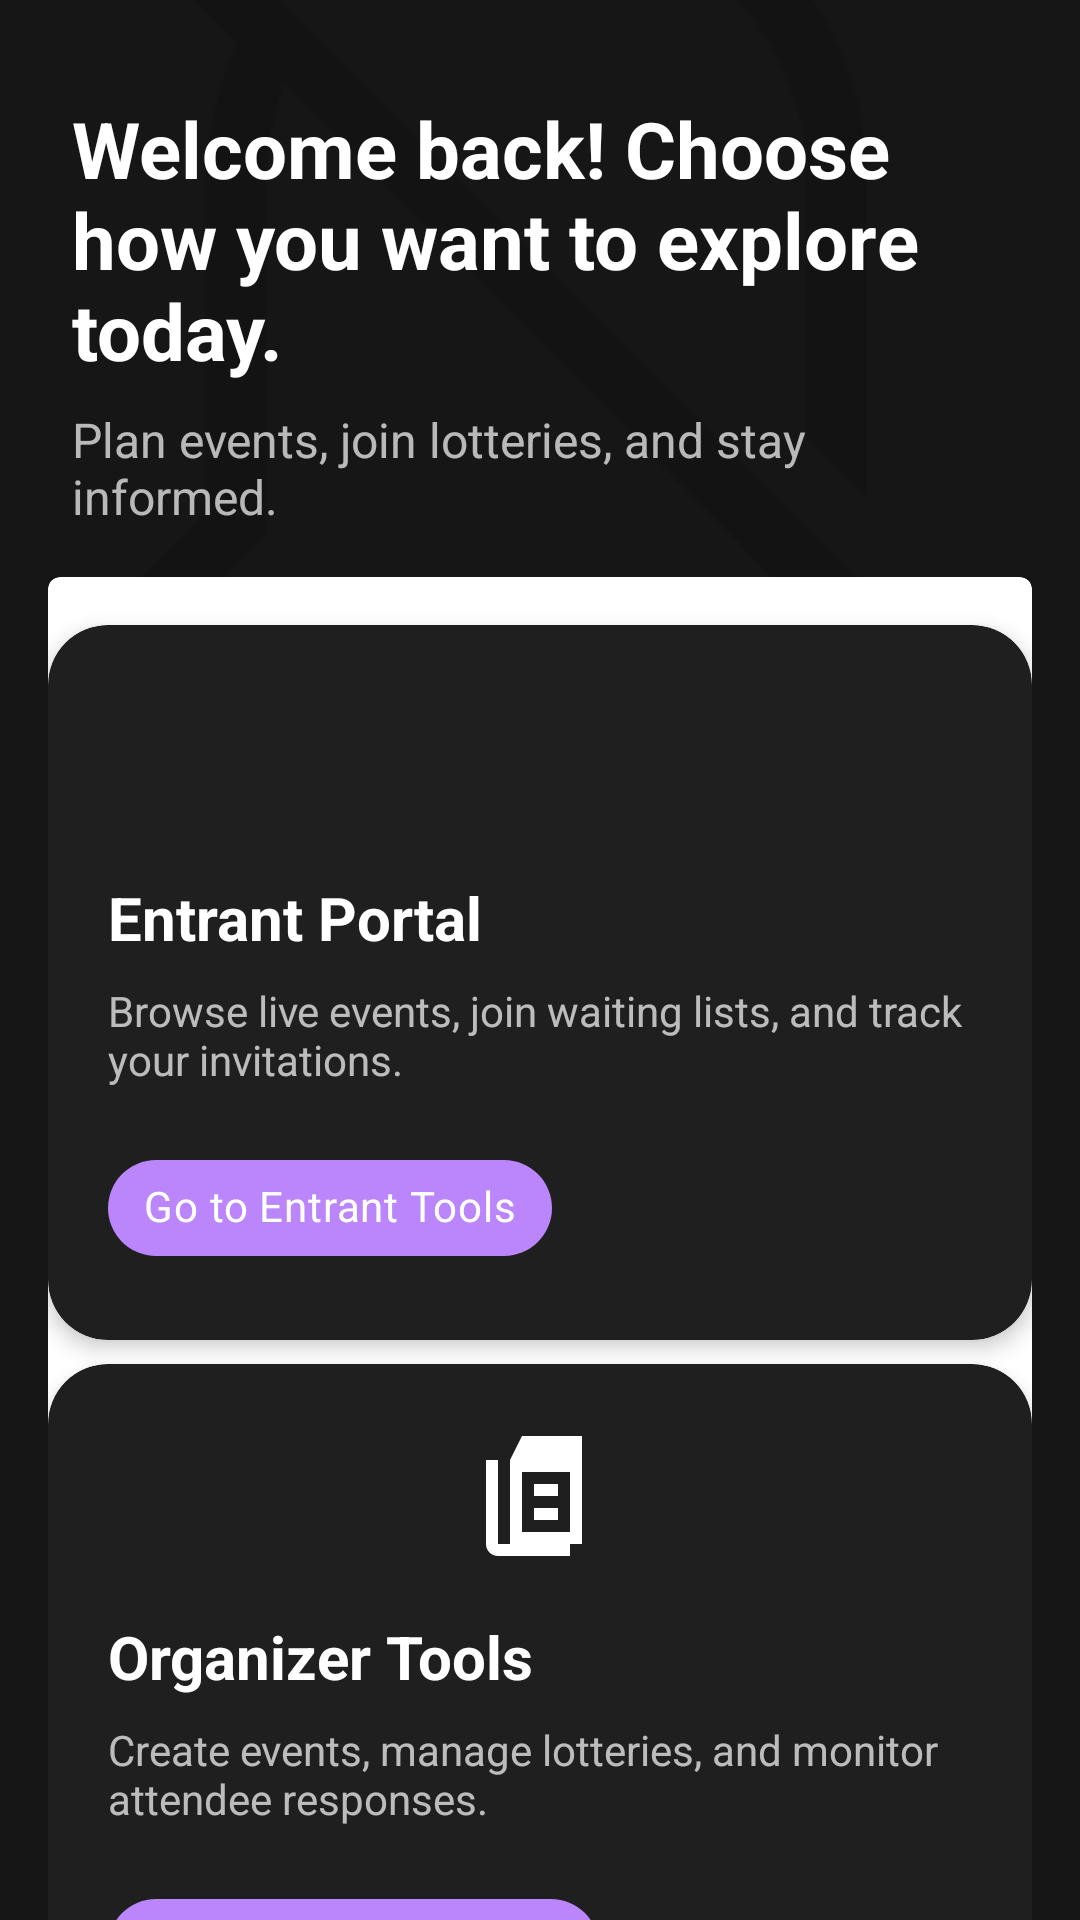

Point at icon controls on the screen. Image size 1080px×1920px, points as point (x, y).
home organizer: point (534, 1496)
